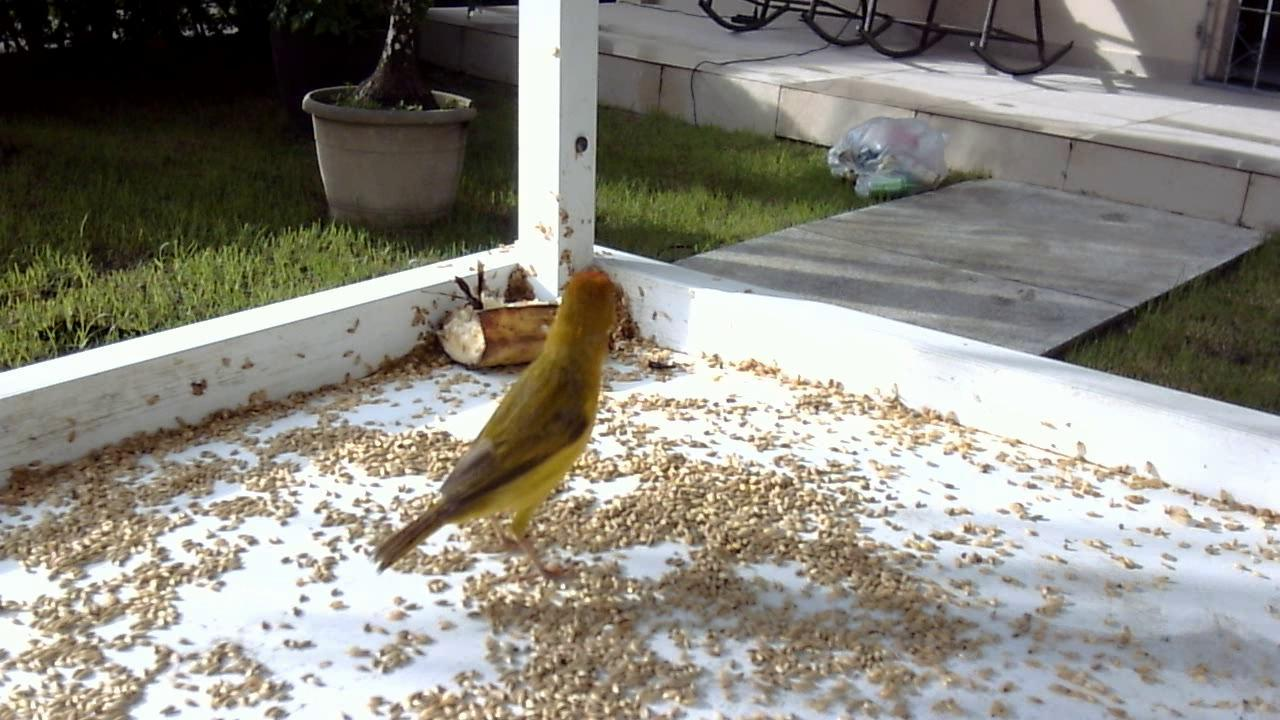canario_do_amazonas: (364, 275, 624, 586)
